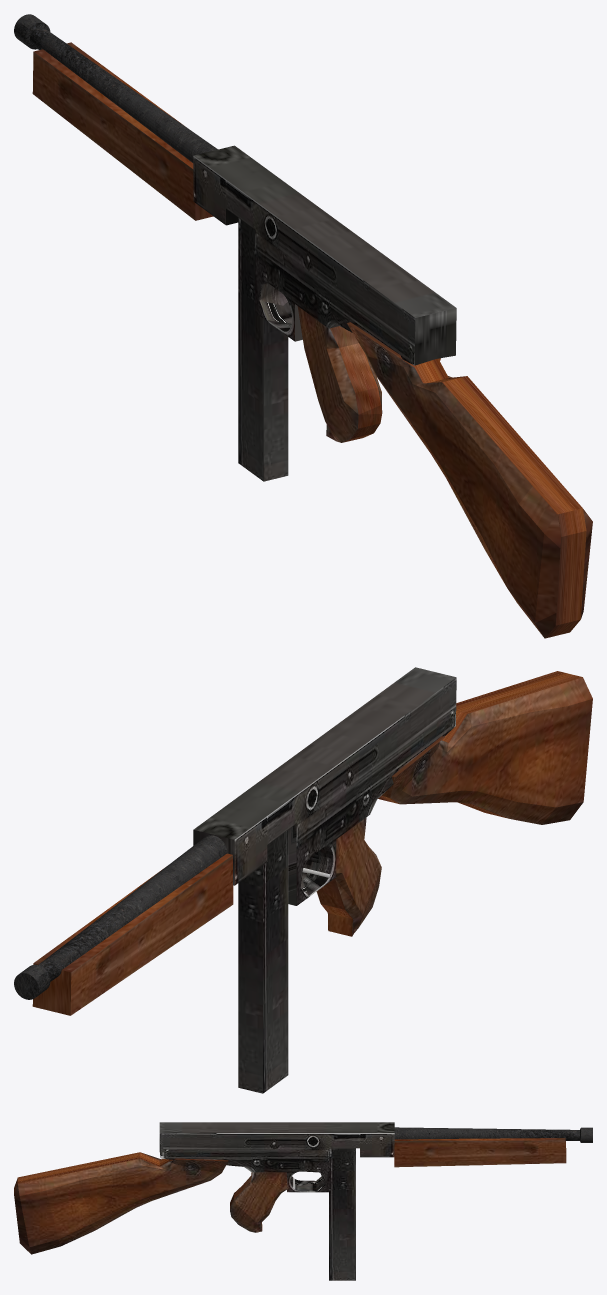
The model's file is thompson.glb.
3 views of the same model, one above another, from view 1: azimuth 30°, elevation 25°; view 2: azimuth 150°, elevation 25°; view 3: azimuth 270°, elevation 25° (orthographic). The views are drawn at different scales.
Parts seen in each view (by area): view 1: stock, chamber, magazine, grip, handle, barrel; view 2: chamber, stock, magazine, grip, barrel, handle; view 3: stock, chamber, grip, magazine, handle, barrel.
Boxes of the visible parts, x1=… form: stock: x1=347, y1=322, x2=592, y2=638; chamber: x1=193, y1=145, x2=456, y2=365; magazine: x1=238, y1=218, x2=288, y2=481; grip: x1=32, y1=42, x2=213, y2=220; handle: x1=297, y1=306, x2=382, y2=442; barrel: x1=14, y1=14, x2=217, y2=162; chamber: x1=193, y1=667, x2=456, y2=905; stock: x1=378, y1=671, x2=592, y2=824; magazine: x1=238, y1=830, x2=288, y2=1093; grip: x1=32, y1=853, x2=233, y2=1015; barrel: x1=14, y1=835, x2=226, y2=999; handle: x1=316, y1=817, x2=381, y2=936; stock: x1=14, y1=1152, x2=228, y2=1254; chamber: x1=159, y1=1122, x2=394, y2=1192; grip: x1=394, y1=1138, x2=566, y2=1167; magazine: x1=329, y1=1148, x2=355, y2=1280; handle: x1=230, y1=1172, x2=286, y2=1232; barrel: x1=394, y1=1127, x2=592, y2=1142.
Size of the model in its own units: 0.2513 by 1.39 by 4.88.
Materials: 2 (2 with a texture image).
